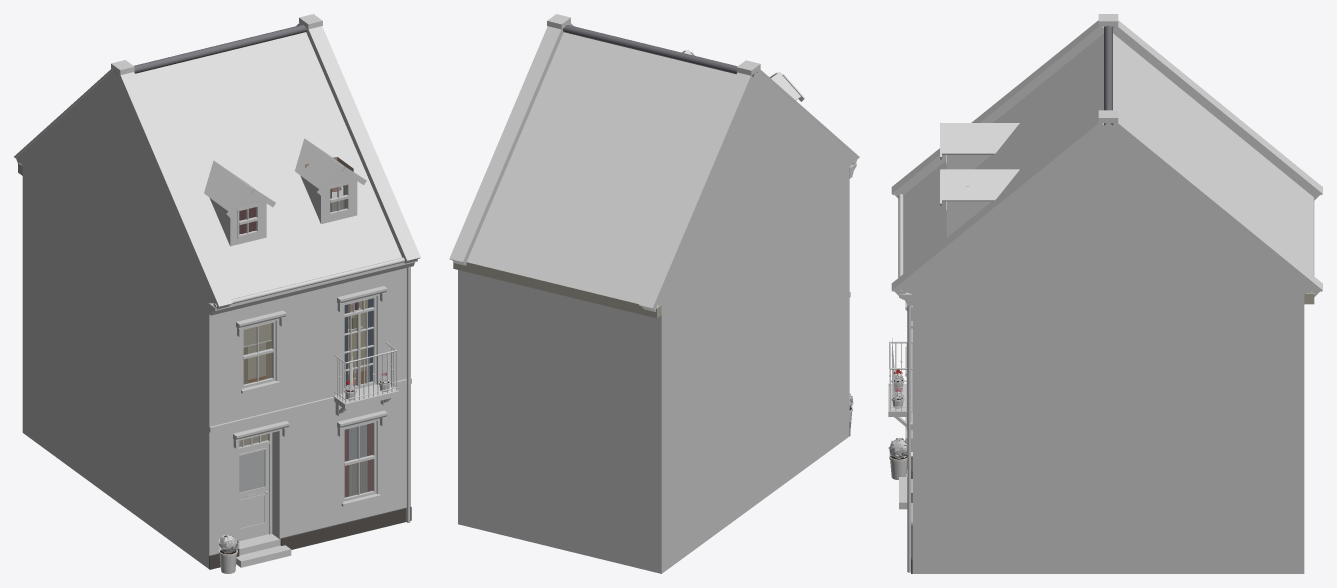
The model's file is LibraryRow_Neighbor4.glb.
3 views of the same model, side by side, from view 1: azimuth 30°, elevation 25°; view 2: azimuth 150°, elevation 25°; view 3: azimuth 270°, elevation 25° (orthographic). The views are drawn at different scales.
Parts seen in each view (by area): view 1: LibraryRow_Neighbor4; view 2: LibraryRow_Neighbor4; view 3: LibraryRow_Neighbor4.
Part boxes in pixels (bbox=[...]): LibraryRow_Neighbor4: bbox=[14, 14, 420, 573]; LibraryRow_Neighbor4: bbox=[449, 14, 859, 573]; LibraryRow_Neighbor4: bbox=[888, 14, 1322, 573].
Size of what is drawn, in the model's own units: 5.02 by 10.28 by 8.88.
